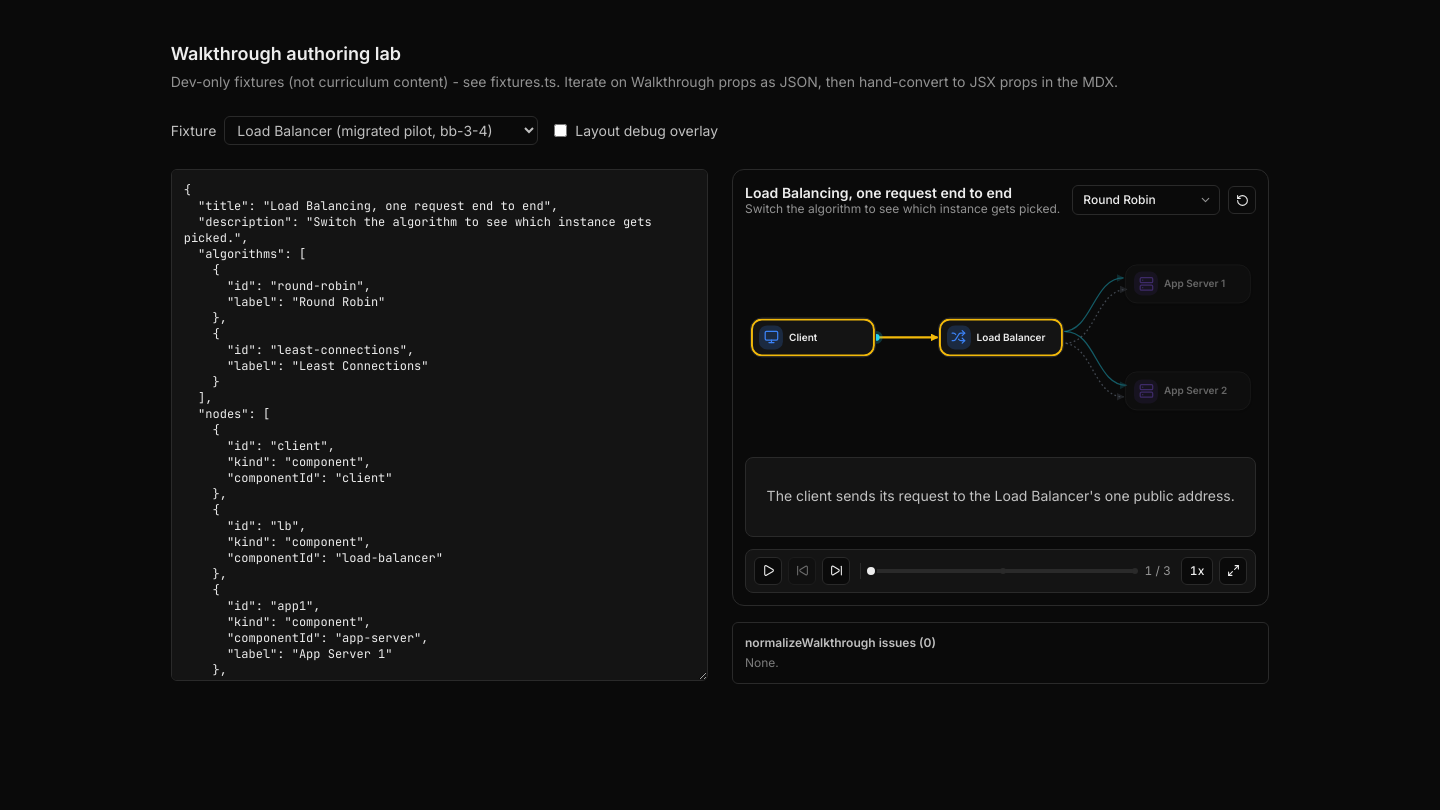
Test: WalkthroughLabContent › switching fixtures swaps the rendered walkthrough
Expected: the text "Load Balancing, one request end to end" is shown, [745, 184, 1012, 201]
Select "8-node fan-out (RWE-scale preview)" in the dropdown labelled "Fixture". click: (381,130)
box: [224, 116, 538, 145]
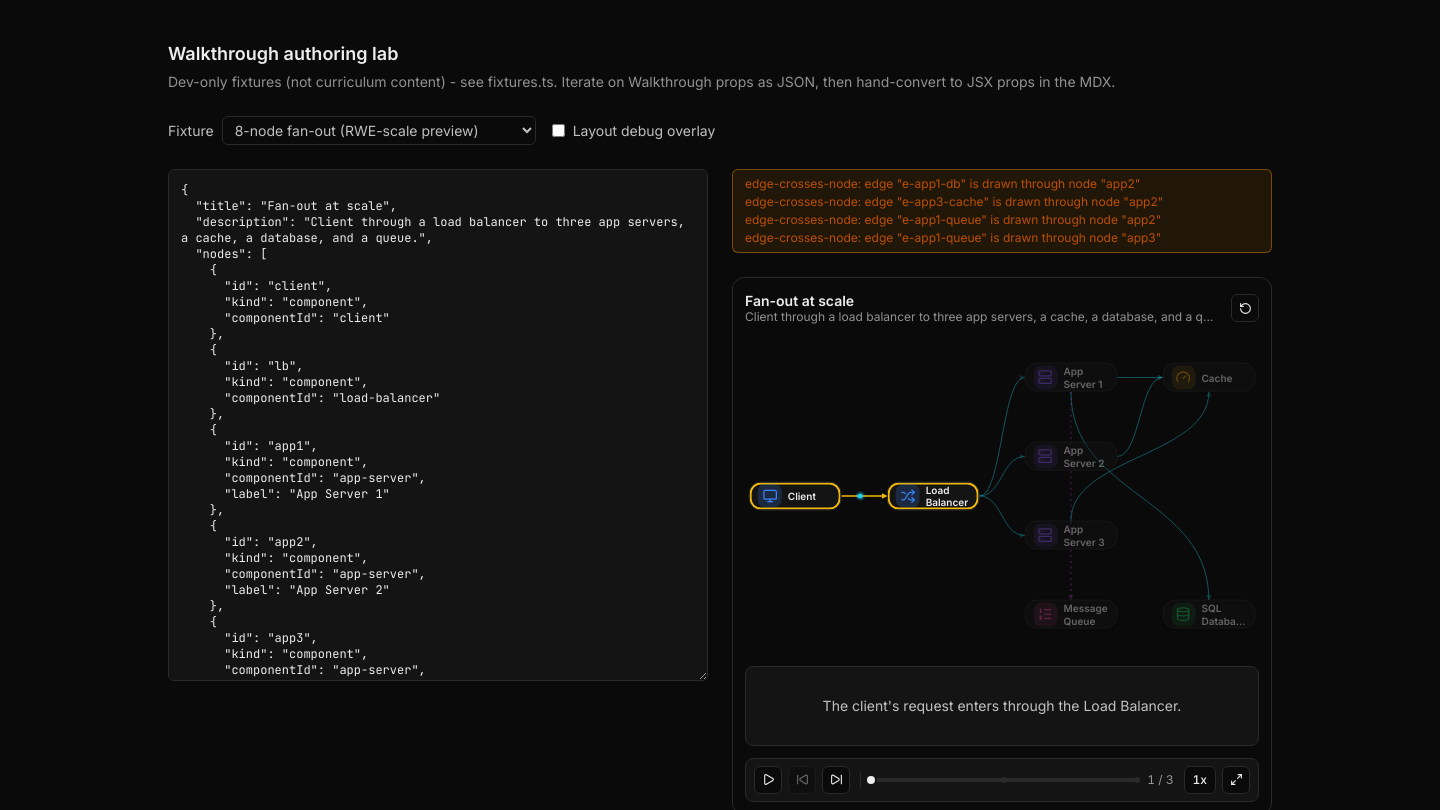
Expected: the text "Fan-out at scale" is shown, [745, 292, 854, 309]
Expected: the text "Load Balancing, one request end to end" is gone
